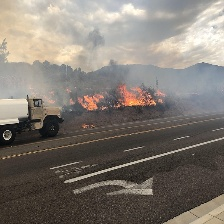fire: (78, 82, 167, 111)
smoke: (9, 22, 128, 86)
